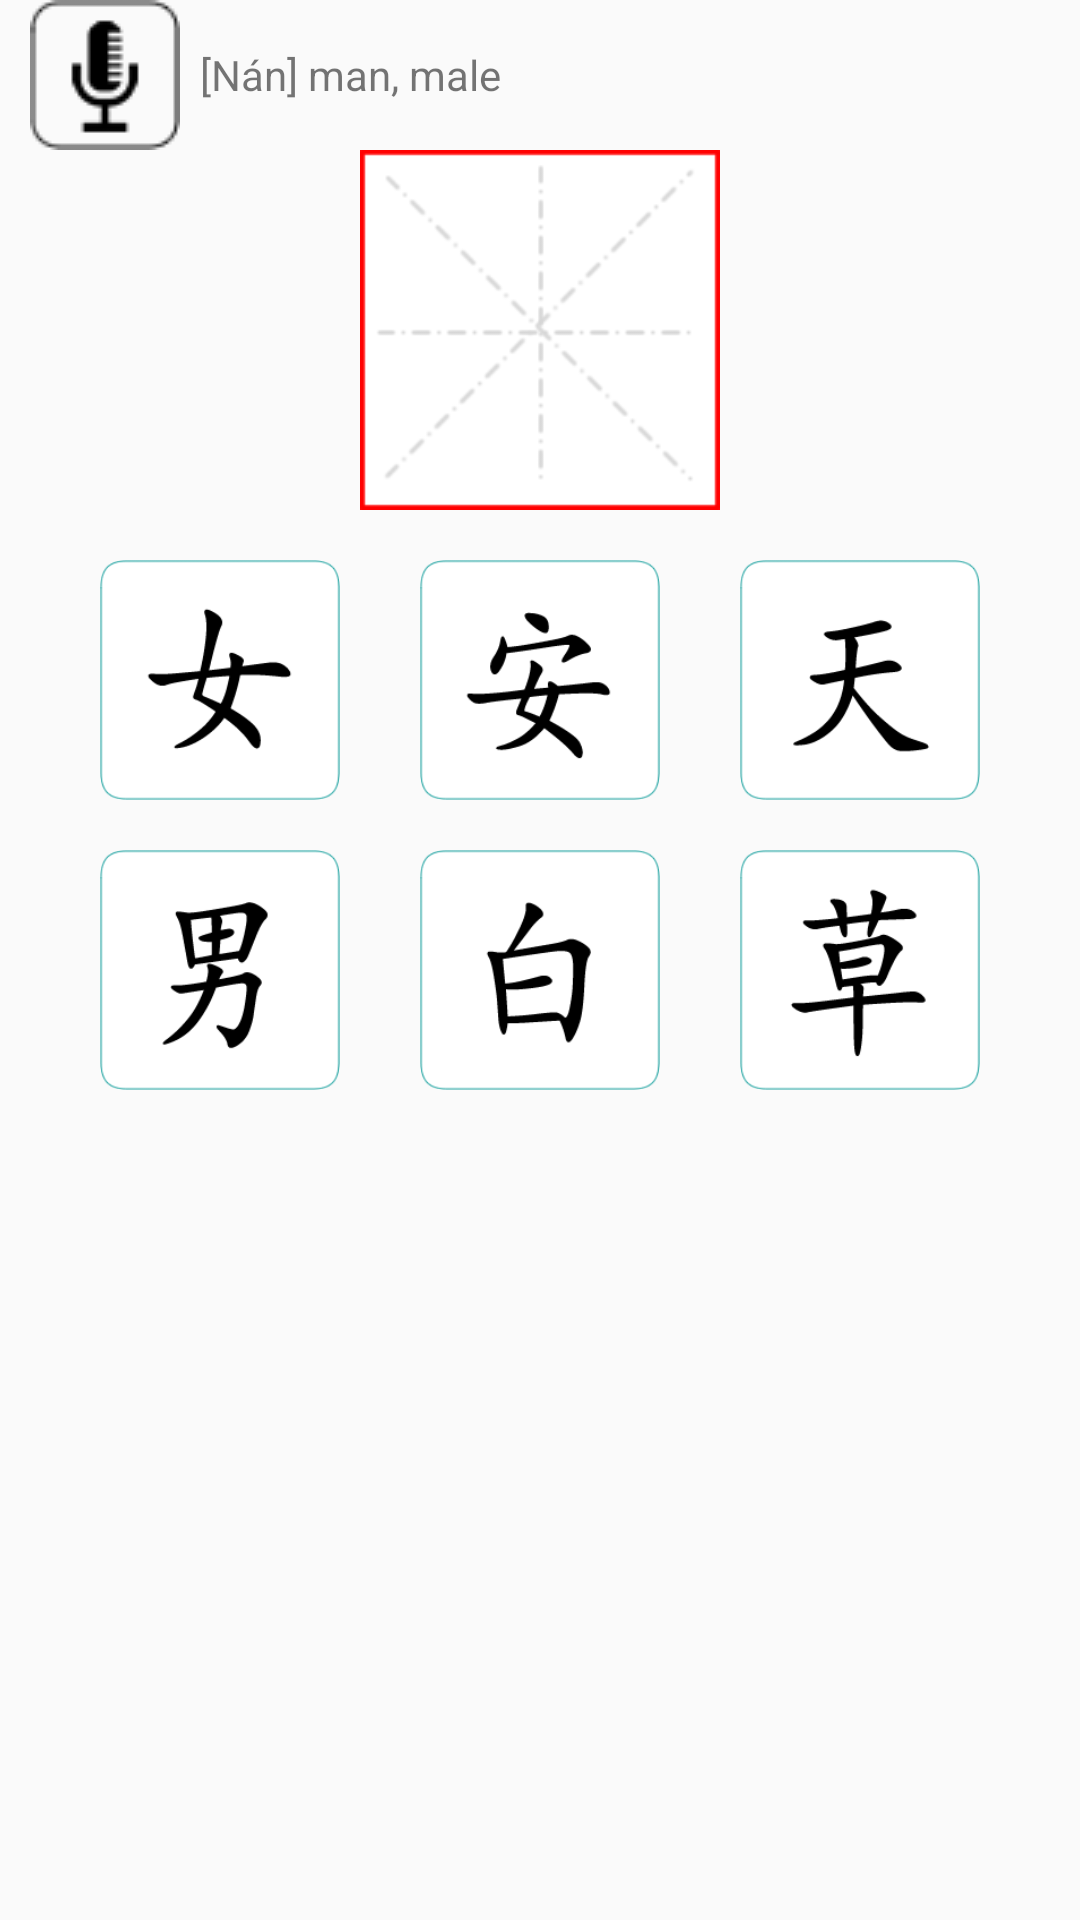

Icon click points for this 1080×1920 phone screenshot, format (x=x, y=y):
micsicon: (x=105, y=75)
